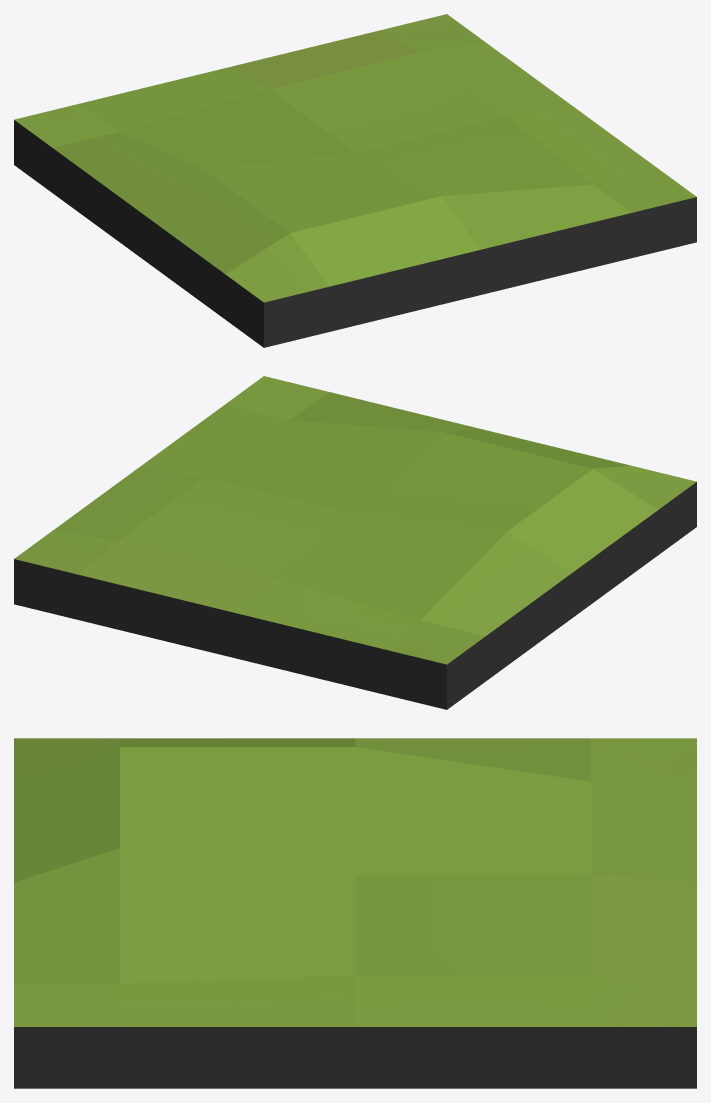
The model's file is earth_3.fbx.
3 renders of one model, top to bottom at view 1: azimuth 30°, elevation 25°; view 2: azimuth 150°, elevation 25°; view 3: azimuth 270°, elevation 25°, orthographic. The views are drawn at different scales.
Parts seen in each view (by area): view 1: block; view 2: block; view 3: block.
Part boxes in pixels (x1,y1,x2,y2): block: (14, 14, 696, 347); block: (14, 376, 696, 709); block: (14, 738, 696, 1088).
Bounding box in the file's own units: 200 × 200 × 31.18.
1 material, 1 textured.
